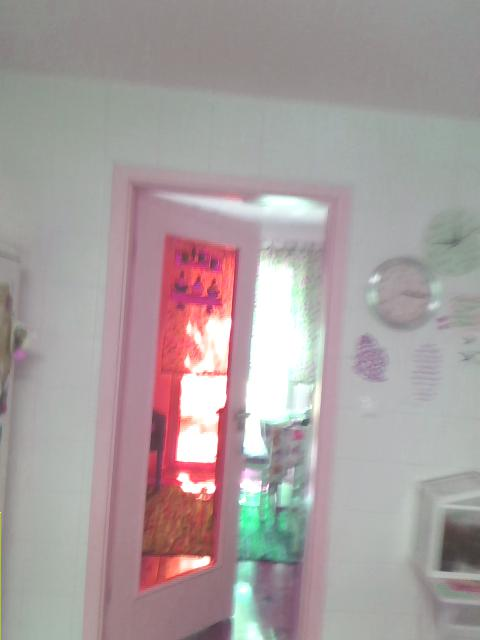semi_door: (81, 161, 352, 639)
